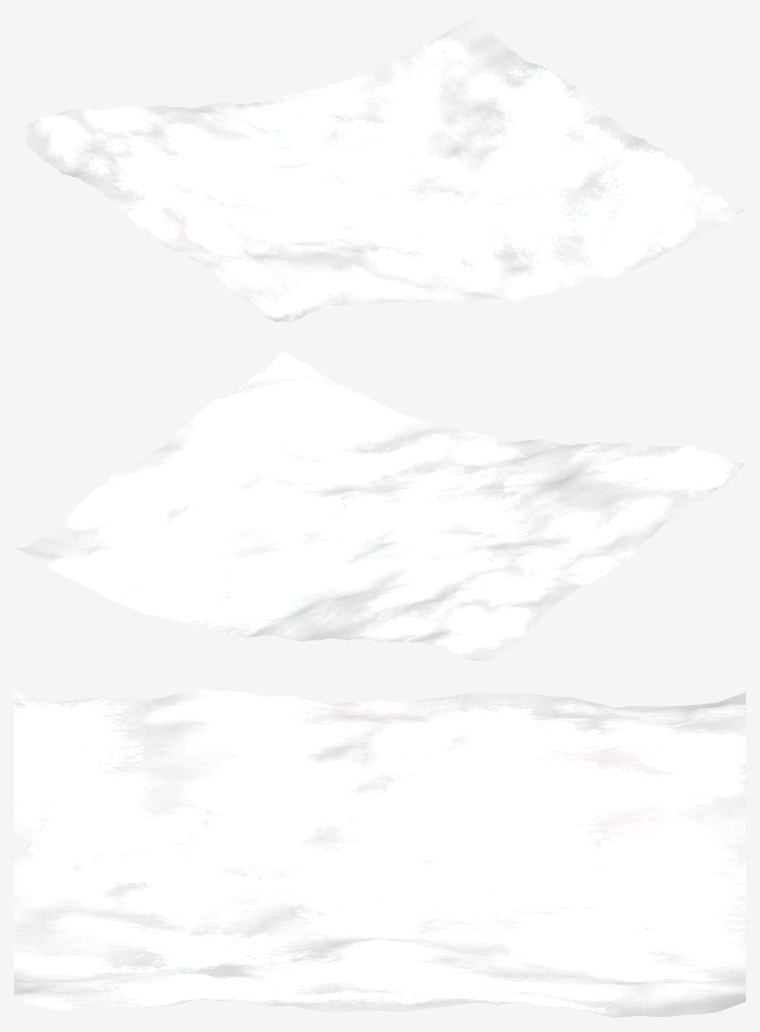
The model's file is snow_ground.glb.
The picture shows the model from 3 angles, top to bottom: view 1: azimuth 30°, elevation 25°; view 2: azimuth 150°, elevation 25°; view 3: azimuth 270°, elevation 25°; orthographic projection. The views are drawn at different scales.
Parts seen in each view (by area): view 1: $dummy_node; view 2: $dummy_node; view 3: $dummy_node.
Part boxes in pixels (x1,y1,x2,y2): $dummy_node: [14, 14, 745, 322]; $dummy_node: [14, 351, 745, 660]; $dummy_node: [14, 689, 745, 1017].
Bounding box in the file's own units: 200 × 16.31 × 200.
1 material, 1 textured.
